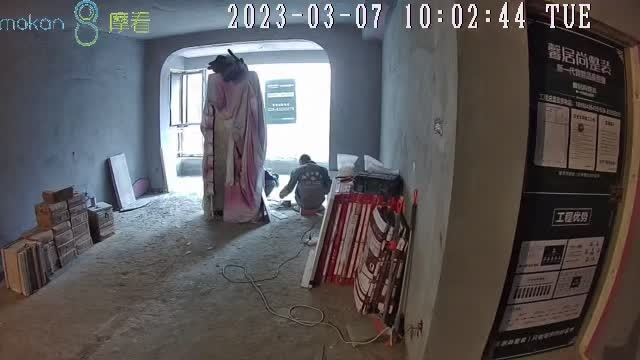people: (279, 155, 331, 217)
window: (183, 66, 331, 163)
